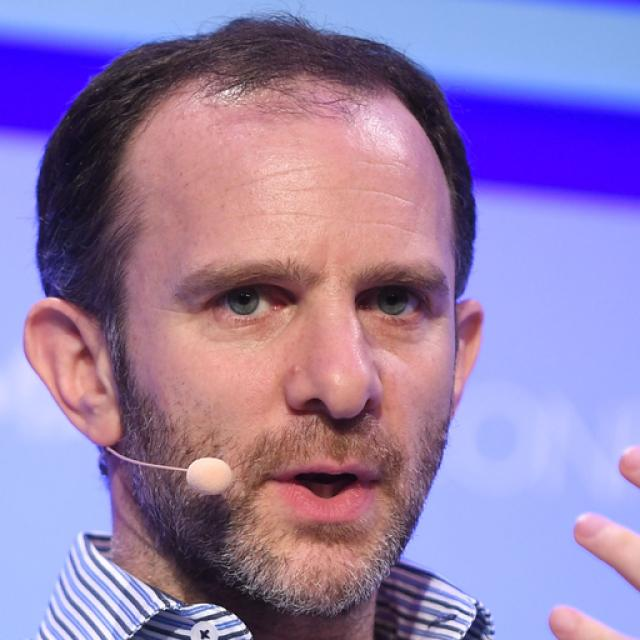Acne: (286, 363, 302, 378)
Wrinkle: (252, 205, 427, 238), (278, 176, 427, 207)
